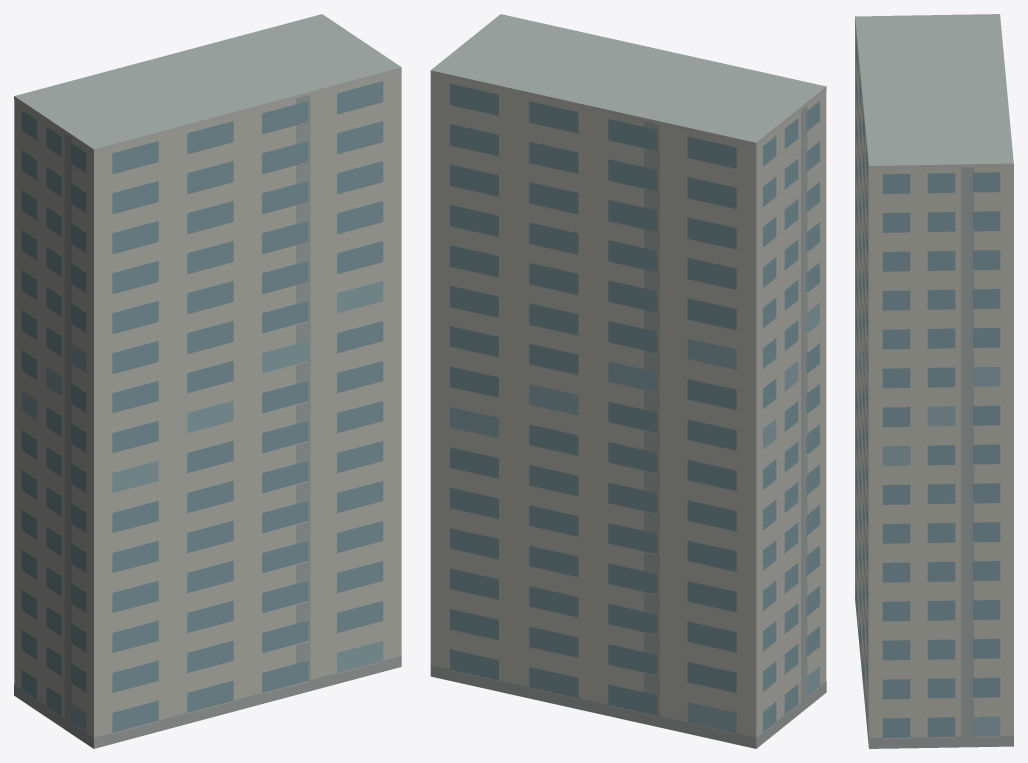
File: residential-ae455c06-1fba-4efe-9a07-a3295e70ce21.glb
3 renders of one model, left to right at view 1: azimuth 30°, elevation 25°; view 2: azimuth 150°, elevation 25°; view 3: azimuth 270°, elevation 25°, orthographic. The views are drawn at different scales.
Parts seen in each view (by area): view 1: residential-ae455c06-1fba-4efe-9a07-a3295e70ce21.tmp; view 2: residential-ae455c06-1fba-4efe-9a07-a3295e70ce21.tmp; view 3: residential-ae455c06-1fba-4efe-9a07-a3295e70ce21.tmp.
Boxes of the visible parts, x1=… form: residential-ae455c06-1fba-4efe-9a07-a3295e70ce21.tmp: x1=14, y1=14, x2=401, y2=748; residential-ae455c06-1fba-4efe-9a07-a3295e70ce21.tmp: x1=430, y1=14, x2=826, y2=748; residential-ae455c06-1fba-4efe-9a07-a3295e70ce21.tmp: x1=855, y1=14, x2=1013, y2=748.
Bounding box in the file's own units: 25.58 × 45.75 × 11.3.
